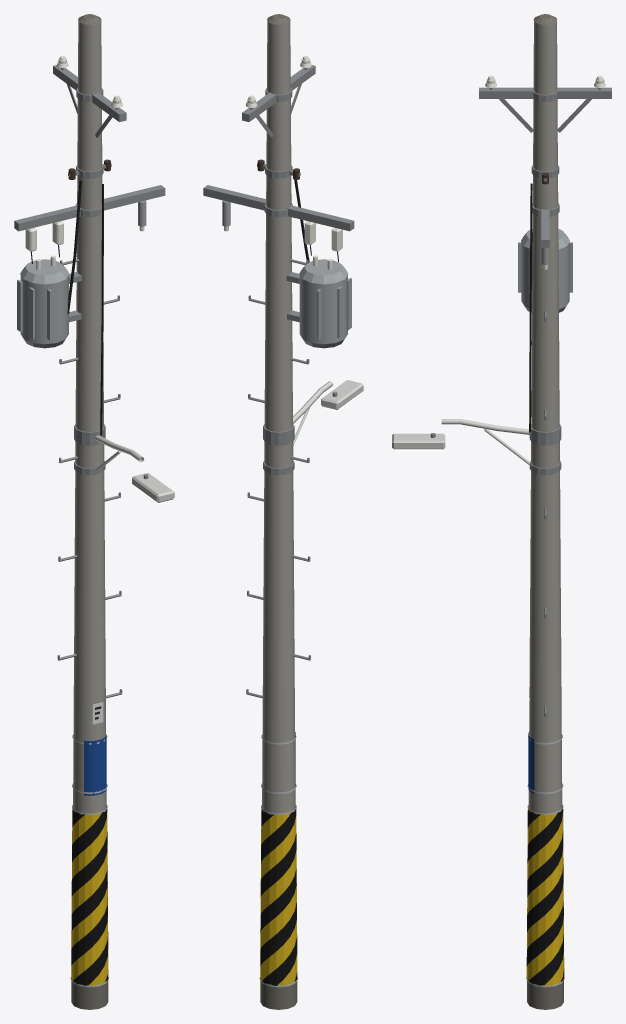
File: utility_pole.glb
3 renders of one model, left to right at view 1: azimuth 30°, elevation 25°; view 2: azimuth 150°, elevation 25°; view 3: azimuth 270°, elevation 25°, orthographic.
Visible parts, largest first — view 1: pole, pole_fittings, lamp_head; view 2: pole, pole_fittings, lamp_head; view 3: pole, pole_fittings, lamp_head.
Part boxes in pixels (box(x1,y1,x2,y2)): pole: box(70, 14, 108, 1009); pole_fittings: box(14, 55, 165, 724); lamp_head: box(132, 473, 174, 504); pole: box(259, 14, 297, 1009); pole_fittings: box(203, 55, 354, 698); lamp_head: box(321, 380, 363, 411); pole: box(526, 14, 564, 1009); pole_fittings: box(441, 75, 611, 719); lamp_head: box(392, 433, 445, 451).
Size of the model in its own units: 1.4 by 9 by 1.82.
